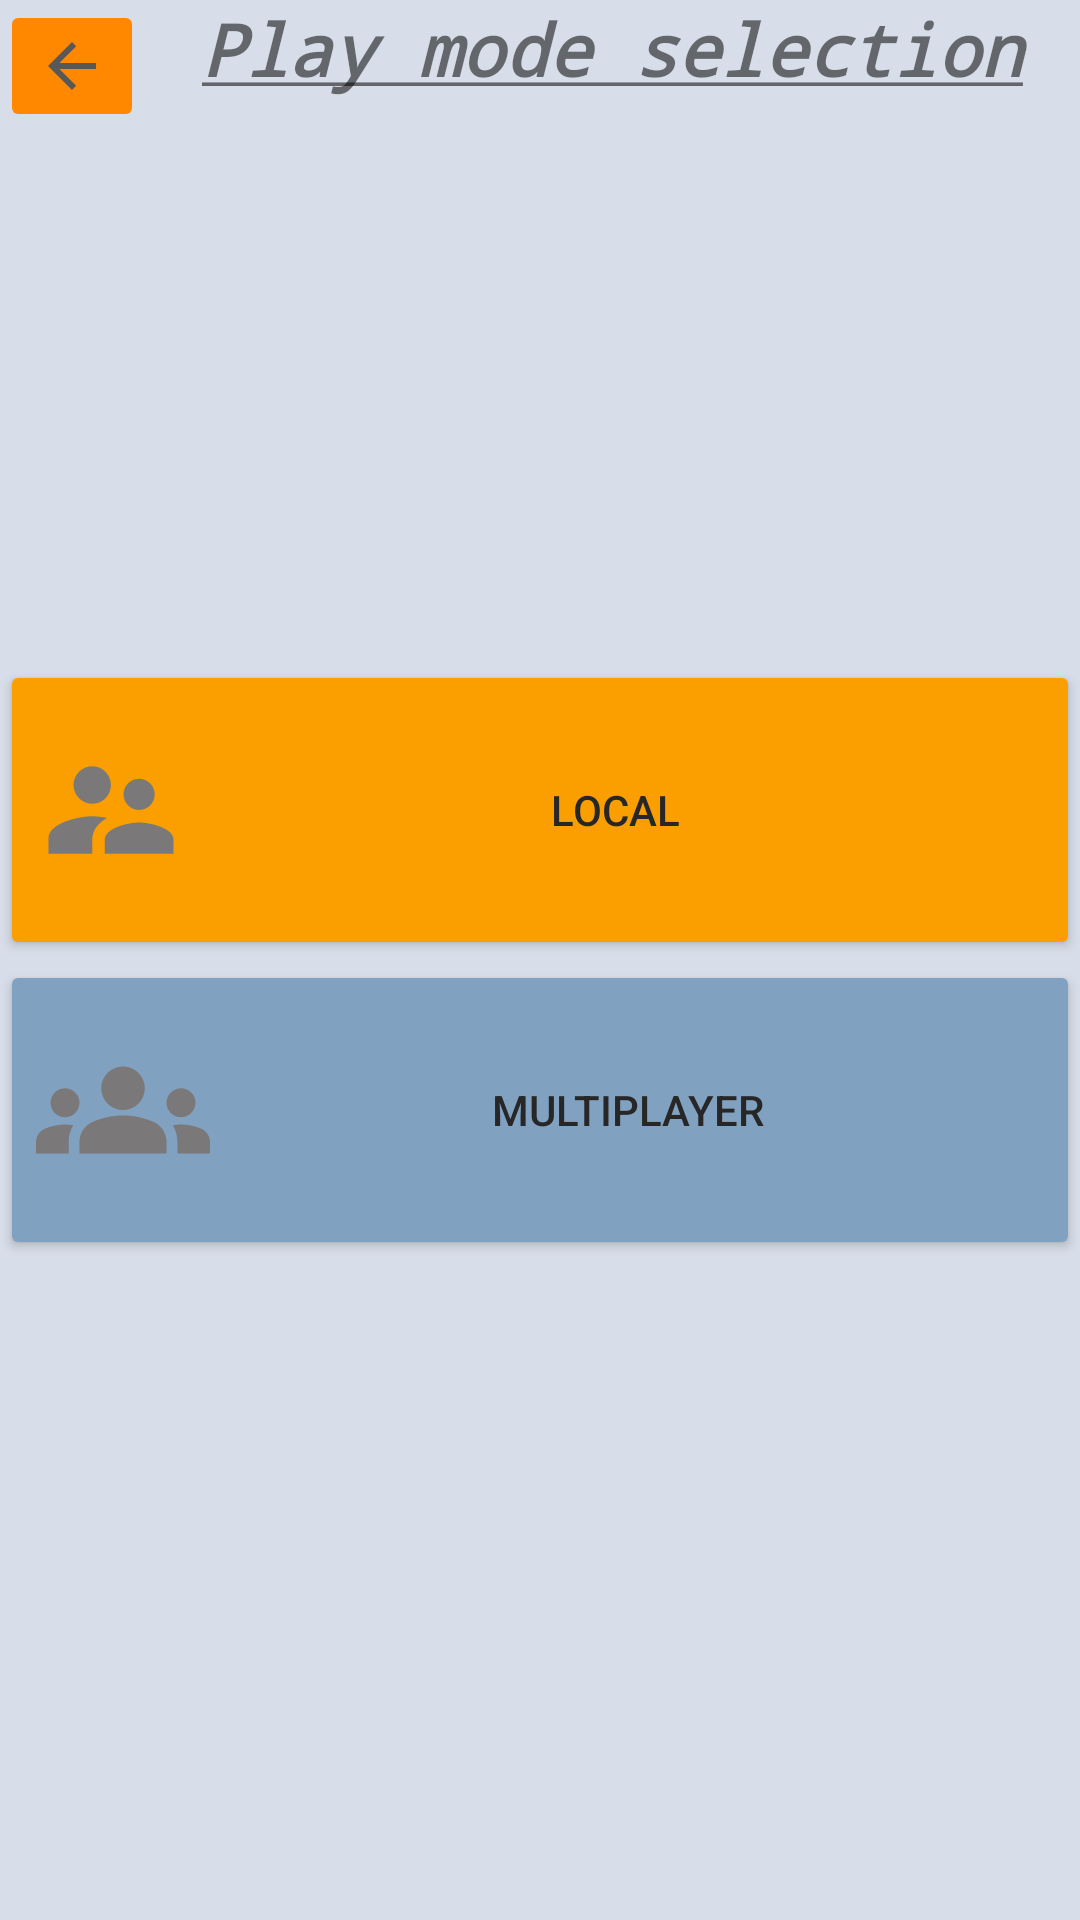

Icons on this 1080px×1920px Android screen, each with the point to tap as [x,y]:
Back button: [72,66]
